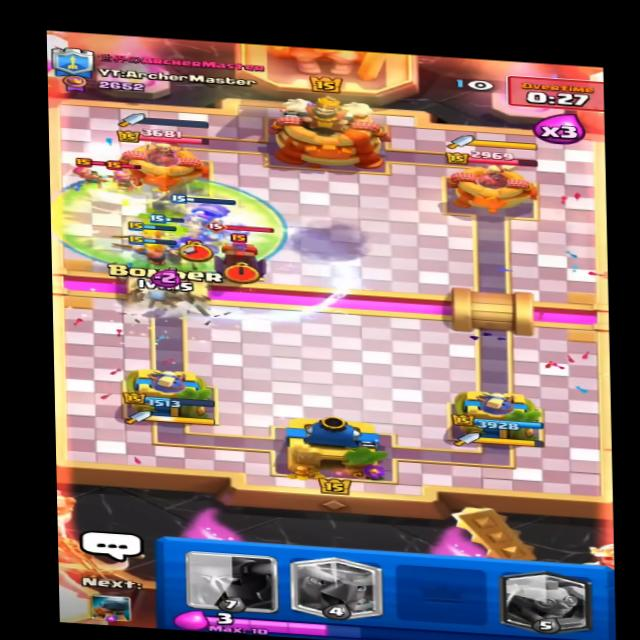archer: (70, 156, 107, 188), (107, 159, 139, 186)
evo-tesla: (203, 219, 288, 284)
